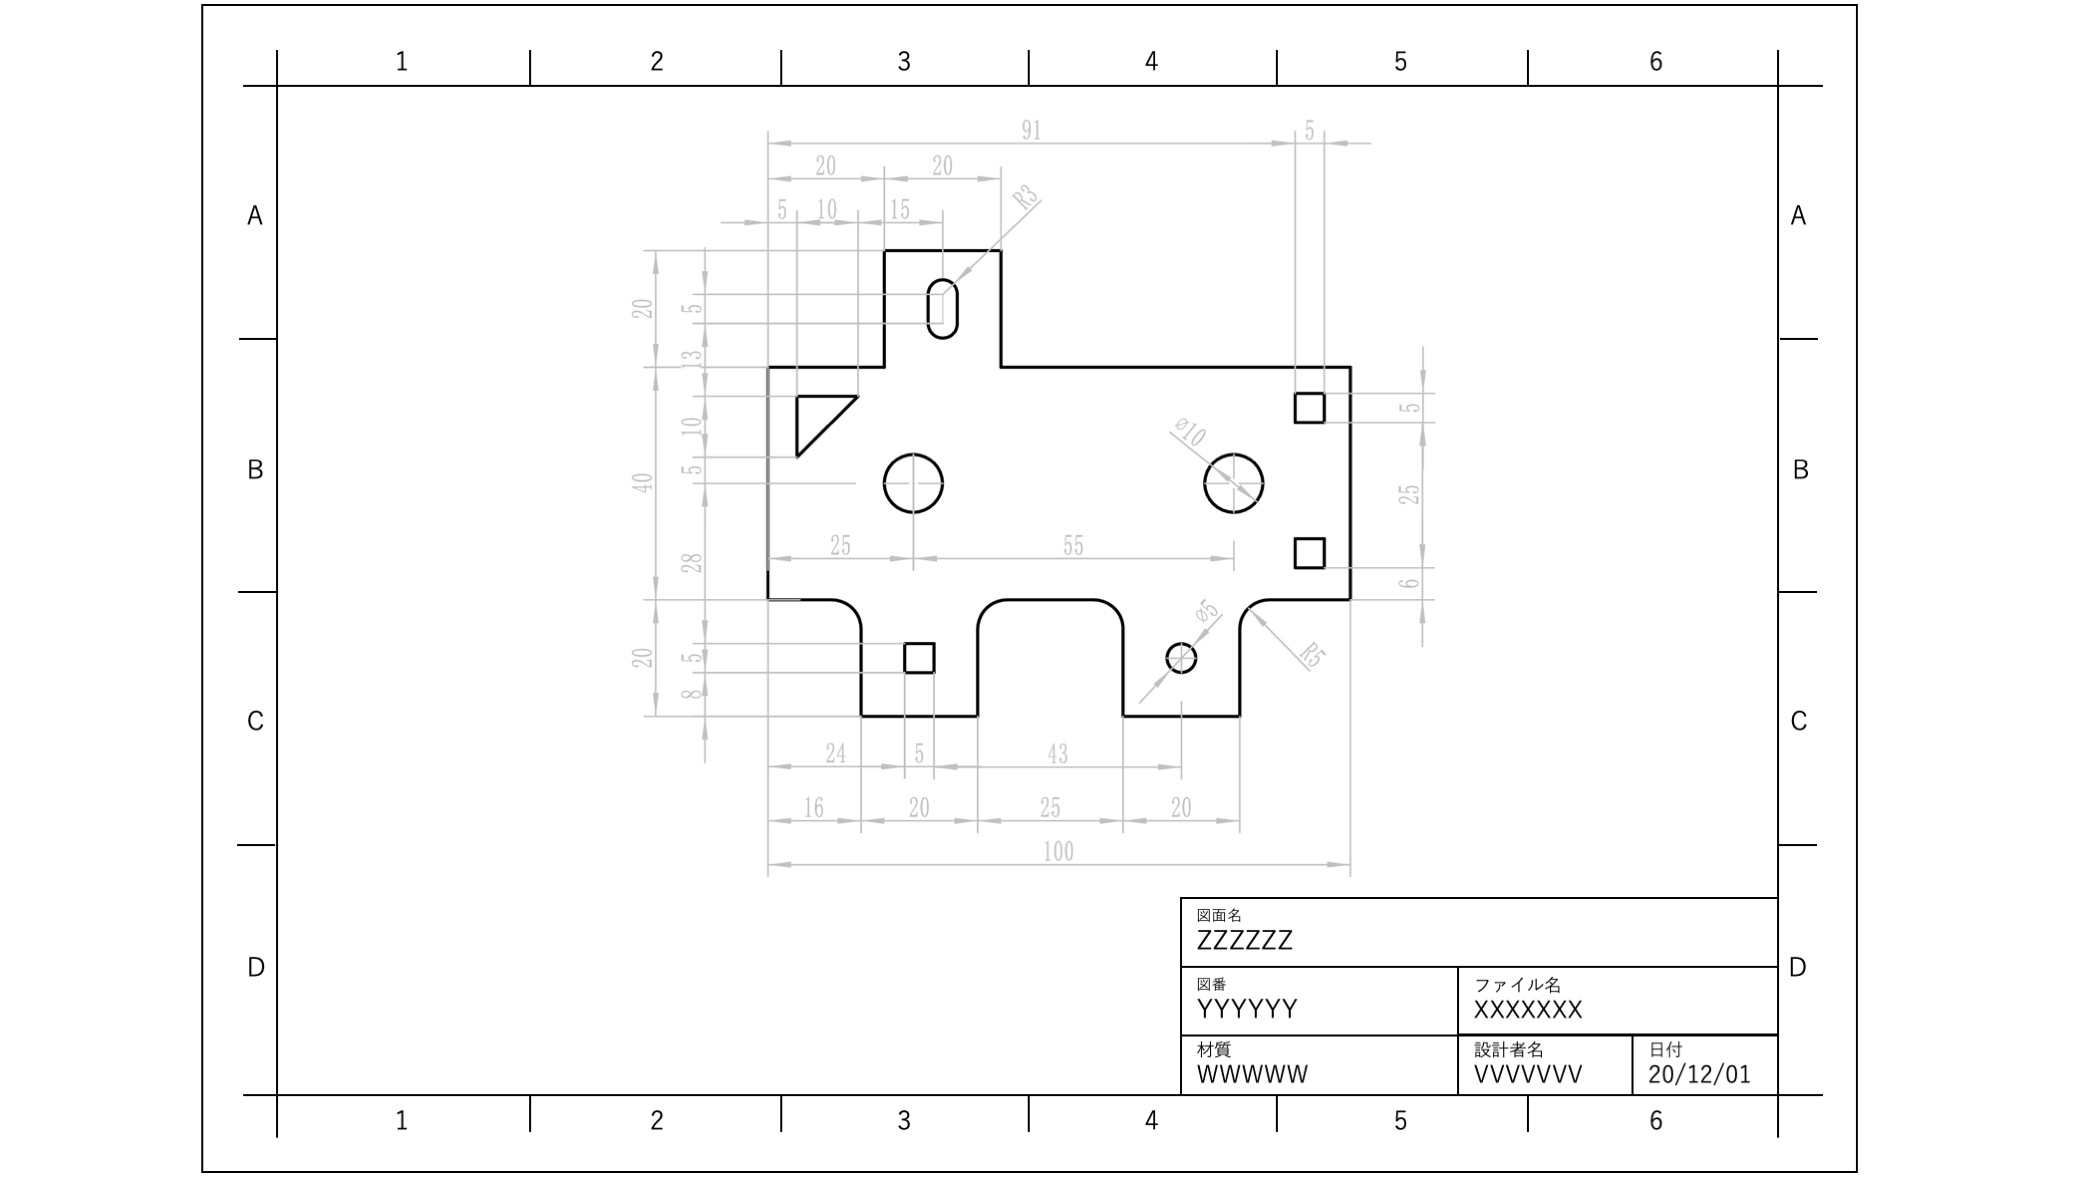circle: (878, 447, 948, 521), (1199, 443, 1266, 515), (891, 633, 945, 682), (1160, 632, 1199, 682)
rectangle: (1284, 384, 1333, 430), (1288, 526, 1333, 575)
round_rectangle: (922, 265, 961, 349)
triangle: (789, 384, 861, 459)
